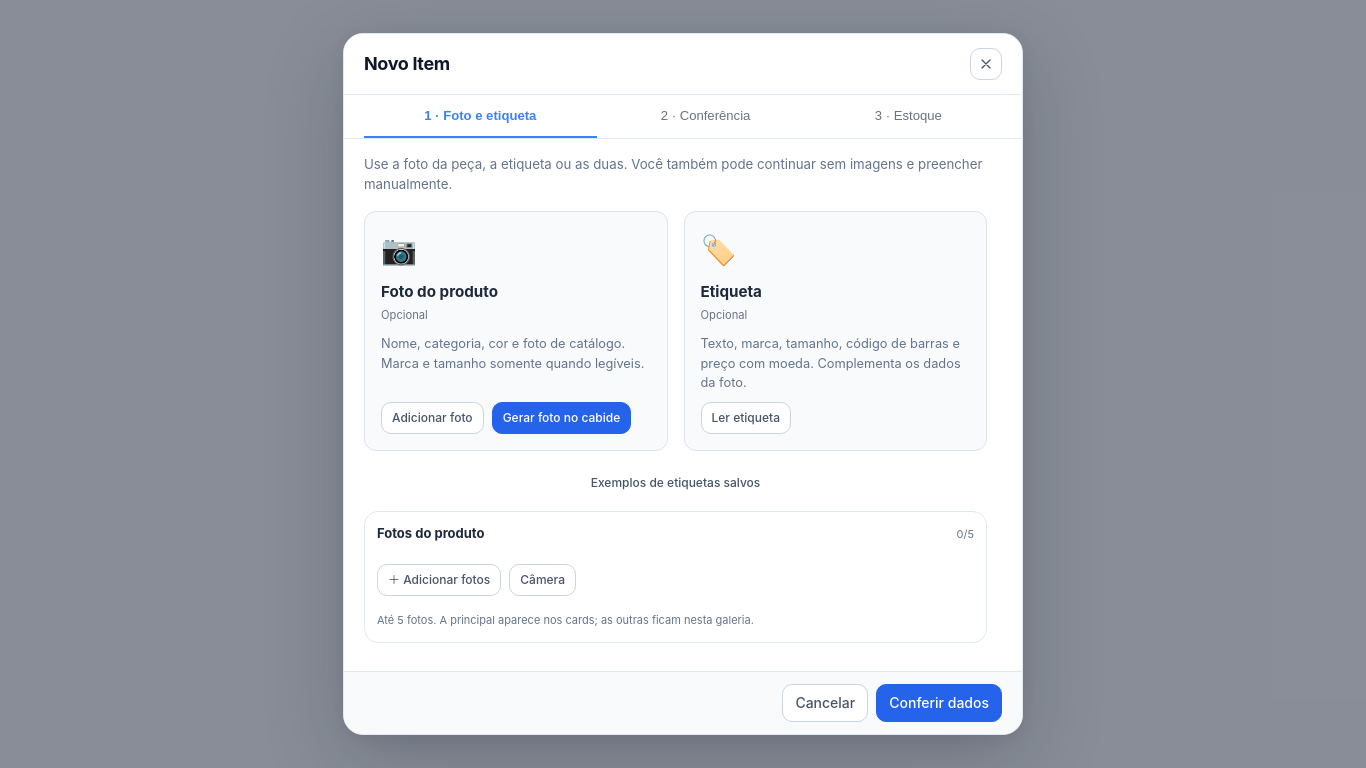
Test: Initial stock registration failures › rejects a fractional initial balance before creating any item
The image size is (1366, 768).
Click the button "Conferir dados".
click(939, 703)  # box [876,684,1002,722]
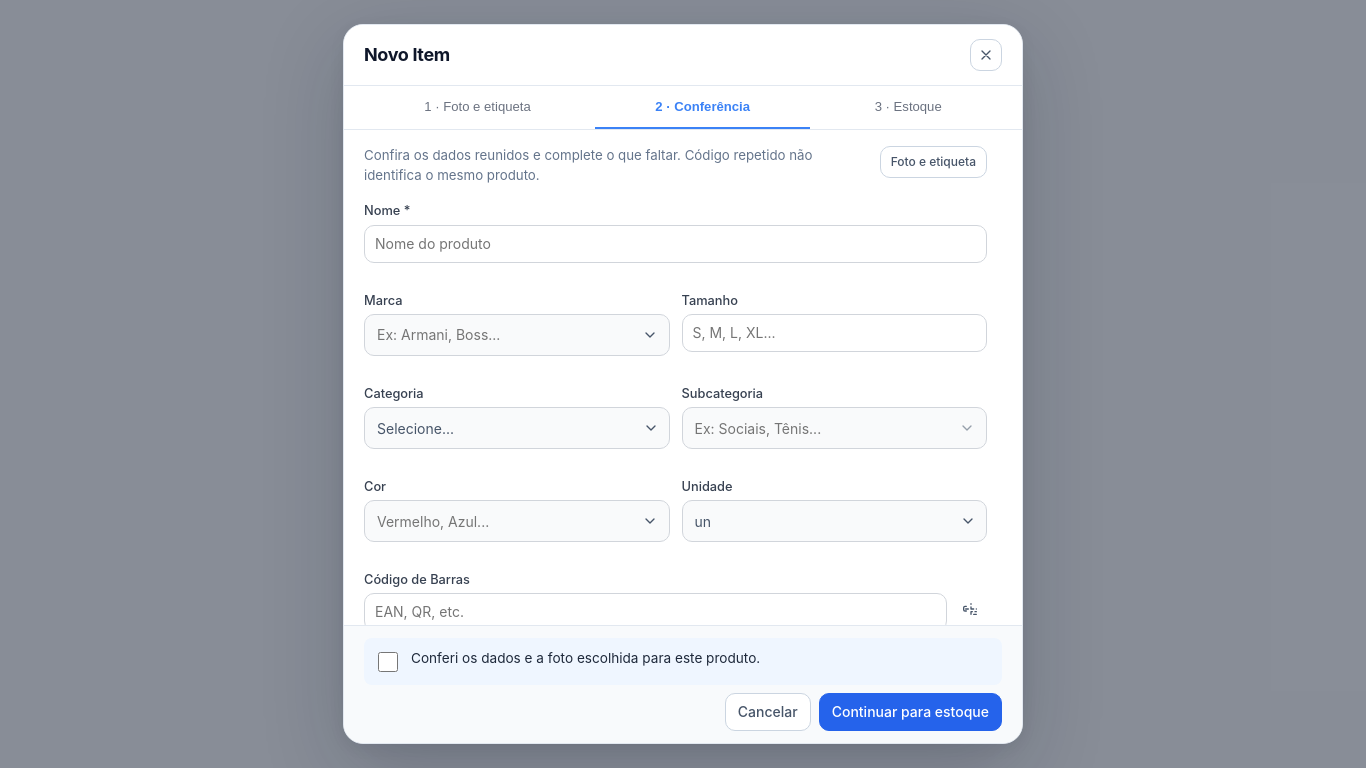
Type "Loja" into the field with placeholder "Nome do produto".
click(676, 244); type("Loja")  # box [364,225,987,263]
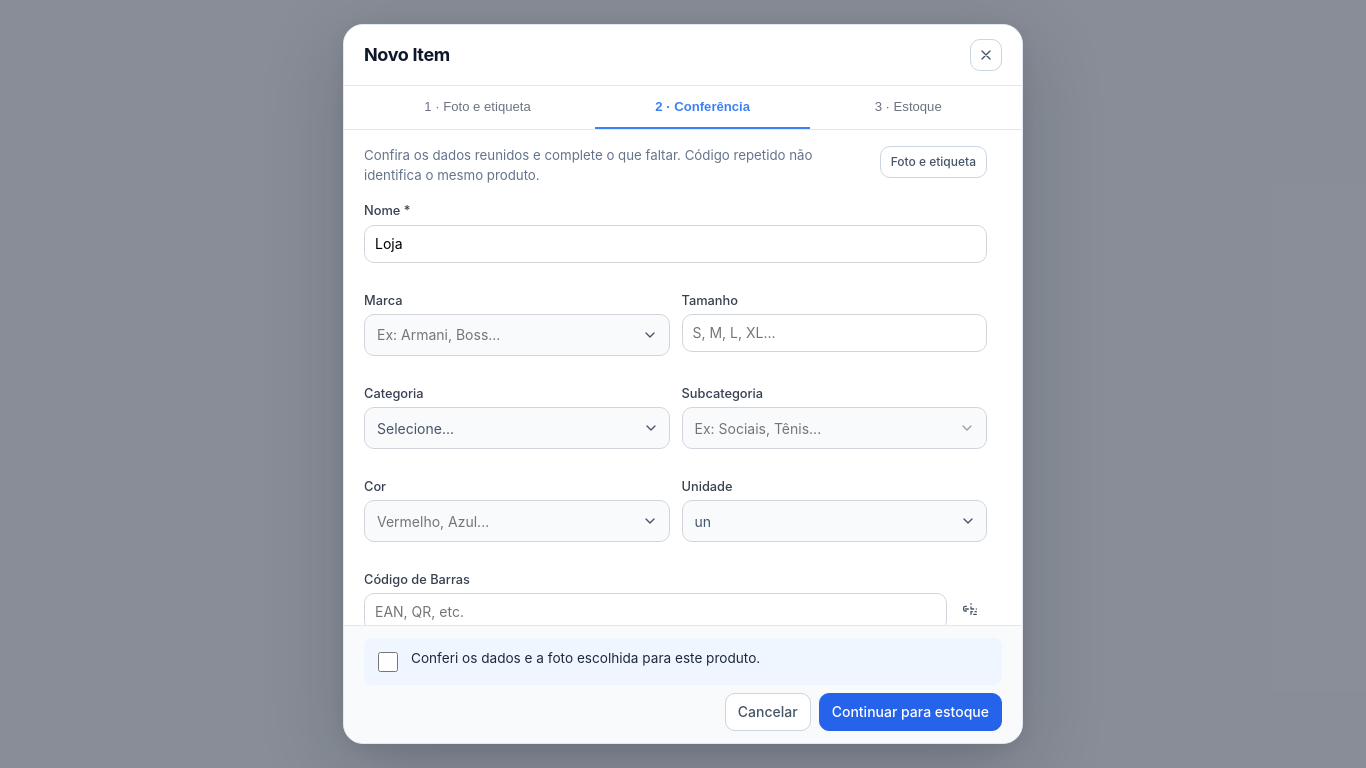
Click the checkbox labelled "Conferi os dados e a foto escolhida para este produto.".
click(388, 662)  # box [378,652,398,672]
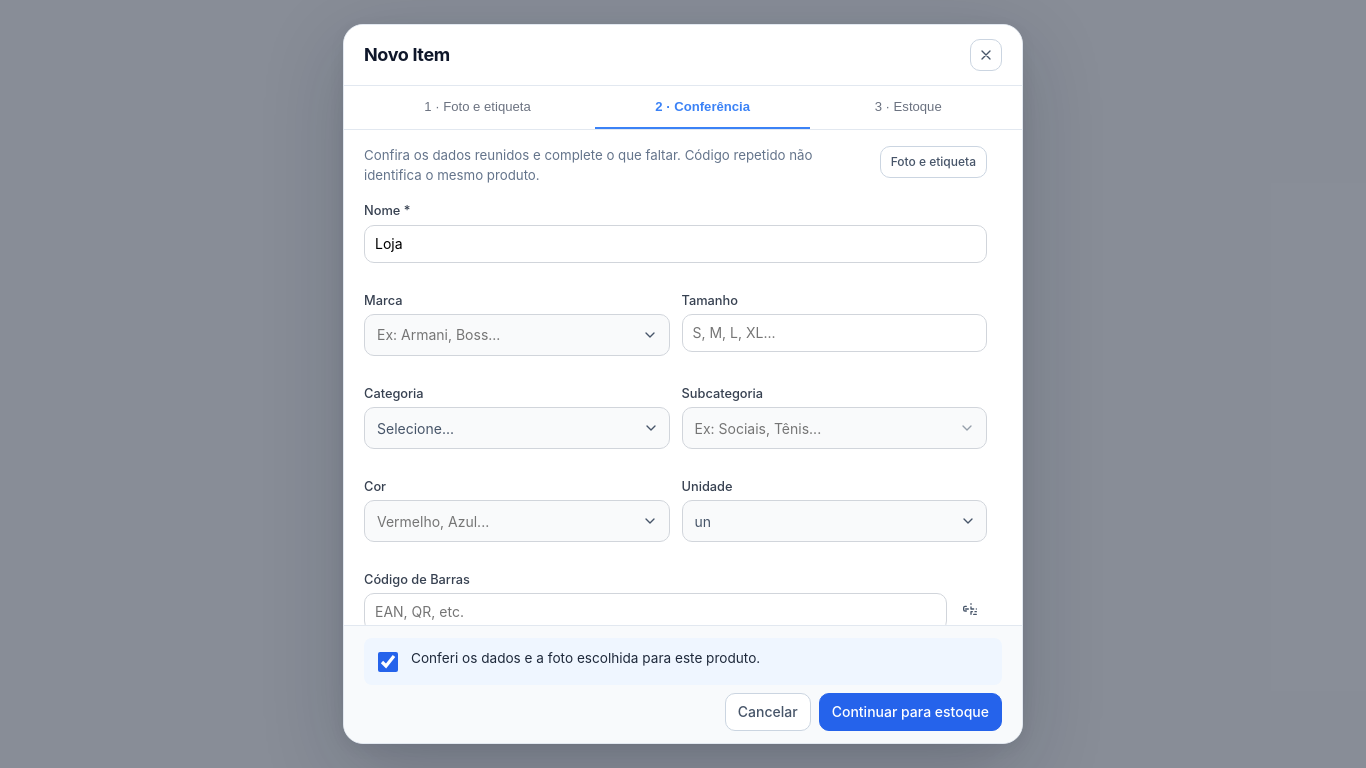
Click the button "Continuar para estoque".
click(910, 712)  # box [819,693,1002,731]
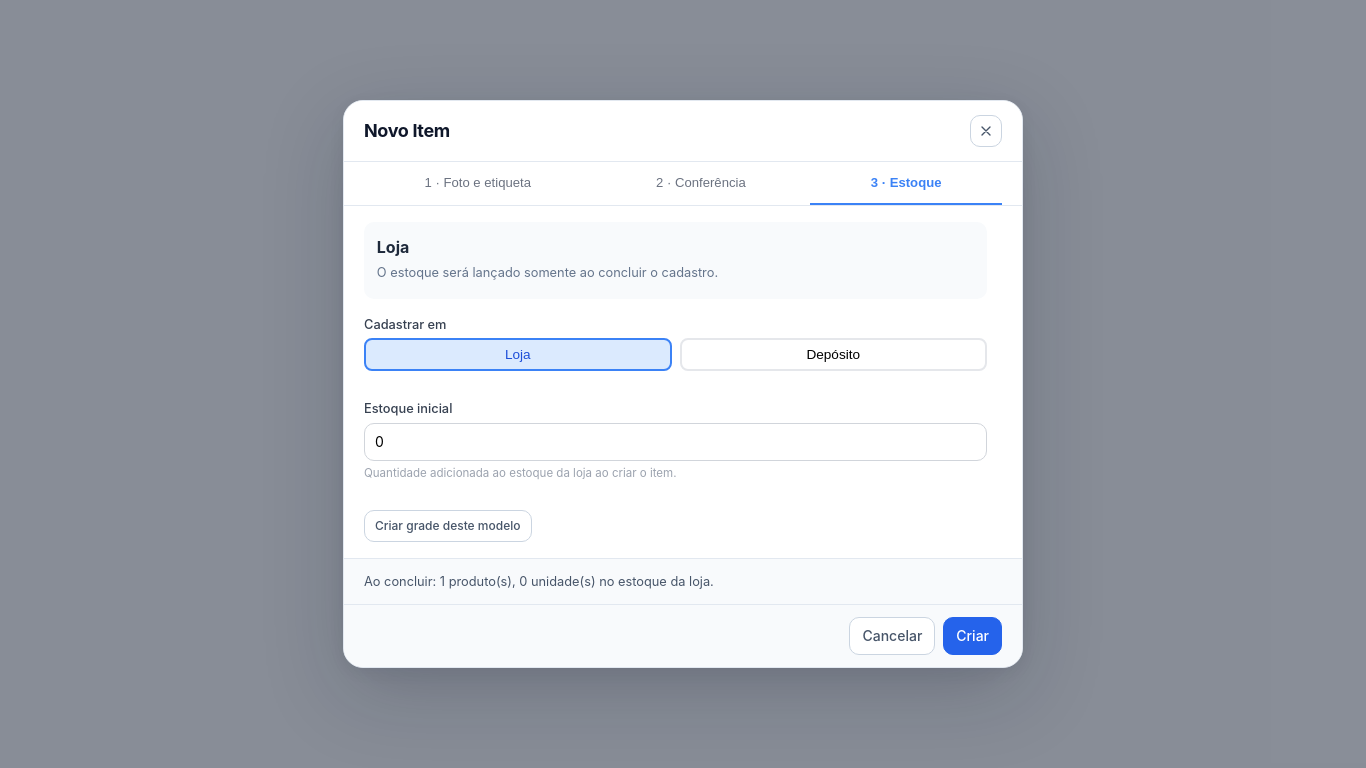
Type "1.5" into the number field.
click(676, 442); type("1.5")  # box [364,422,987,460]
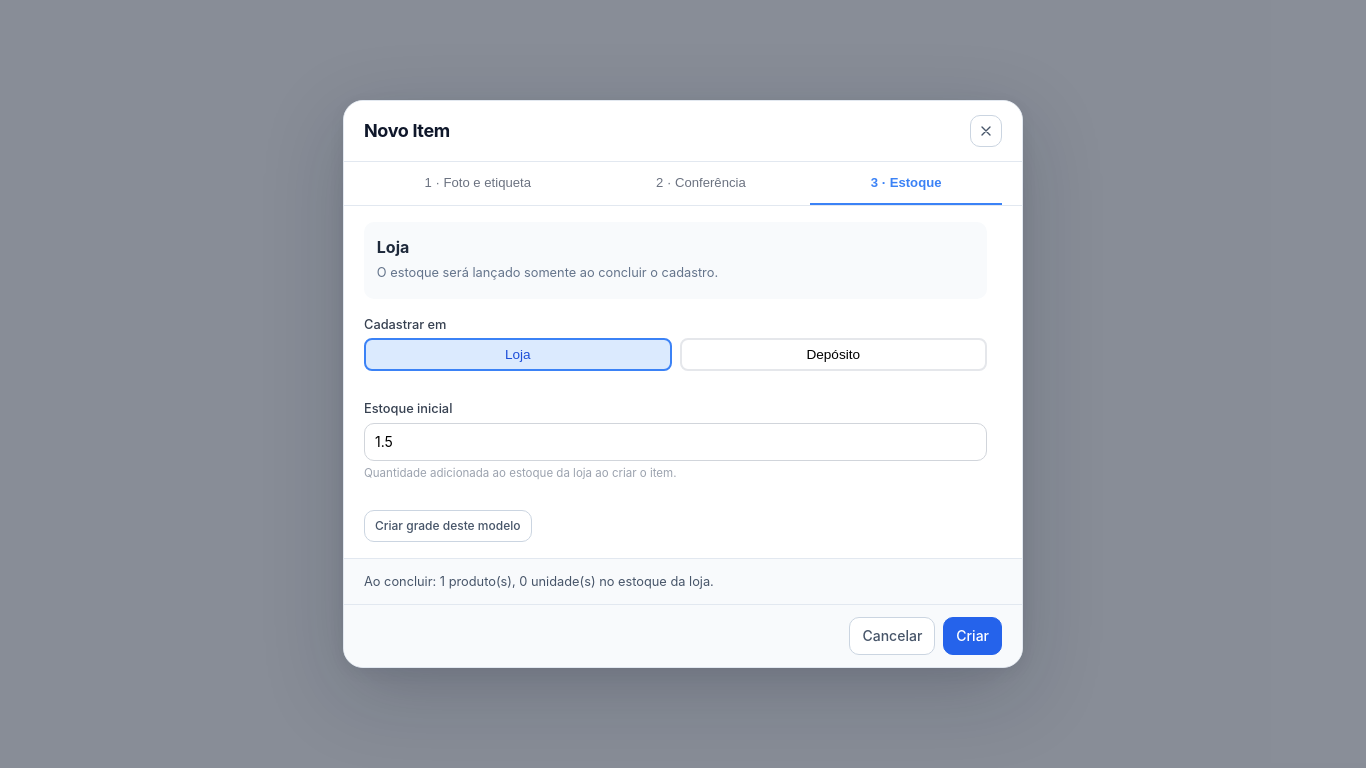
Click the button "Criar".
click(973, 636)  # box [943,617,1002,655]
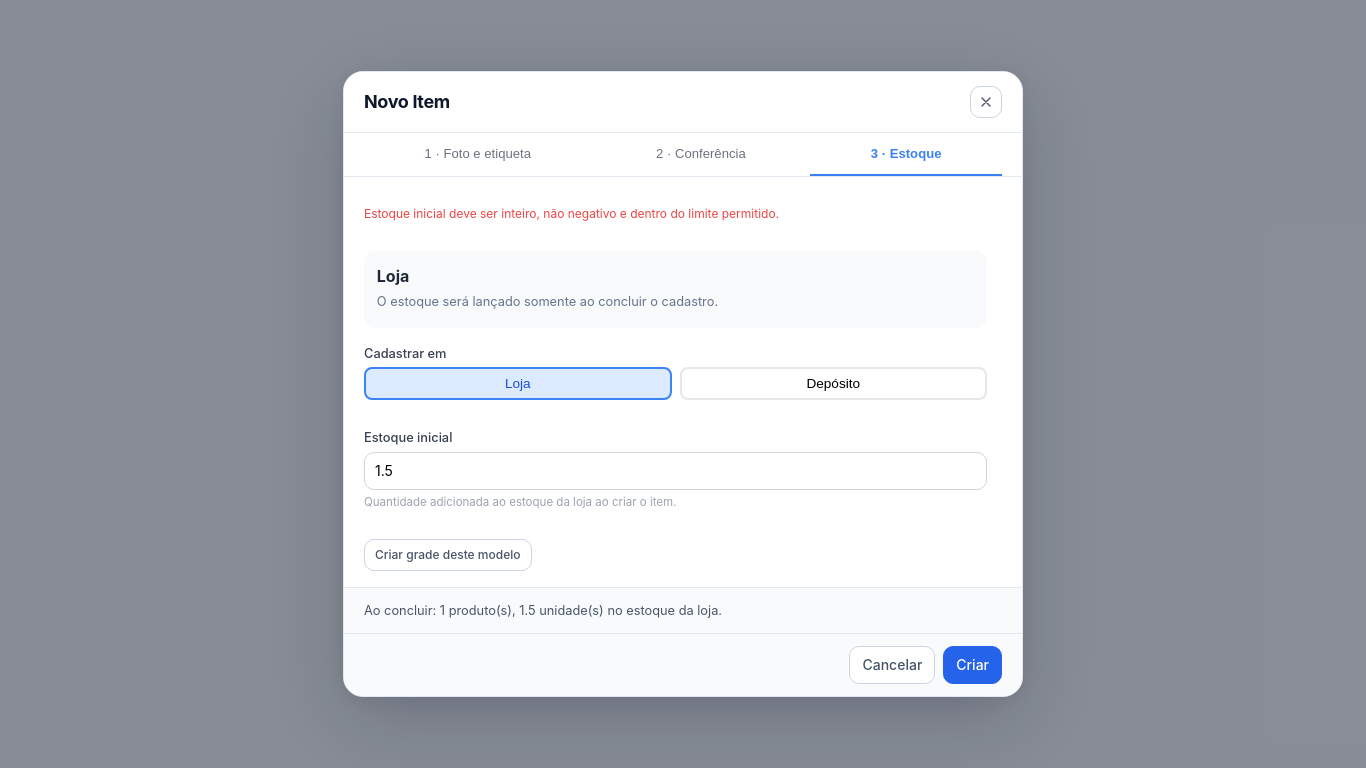
expect the text "Estoque inicial deve ser inteiro" is shown: met, box [364,206,779,221]
